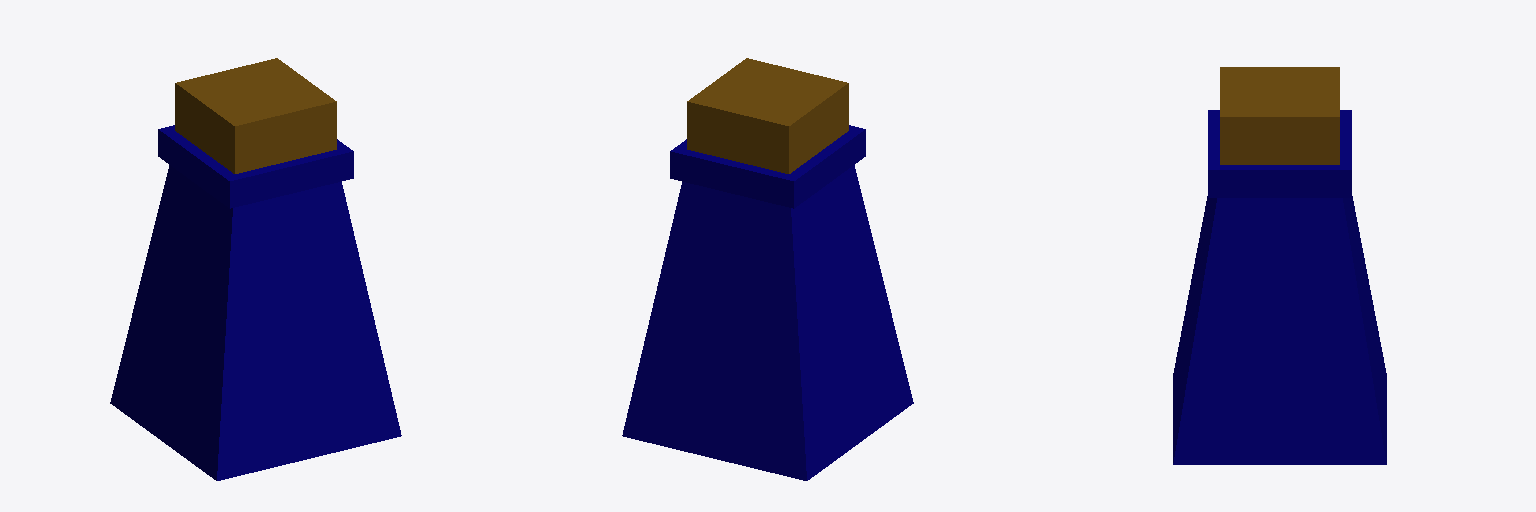
Rendered from MinorPotion_Mana.obj.
3 renders of one model, left to right at view 1: azimuth 30°, elevation 25°; view 2: azimuth 150°, elevation 25°; view 3: azimuth 270°, elevation 25°, orthographic.
Visible parts, largest first — view 1: MinorPotion_Mana_Cube.015; view 2: MinorPotion_Mana_Cube.015; view 3: MinorPotion_Mana_Cube.015.
Part boxes in pixels (bbox=[...]): MinorPotion_Mana_Cube.015: bbox=[110, 58, 401, 480]; MinorPotion_Mana_Cube.015: bbox=[622, 58, 913, 480]; MinorPotion_Mana_Cube.015: bbox=[1173, 67, 1386, 464].
Size of the model in its own units: 2.41 by 4.08 by 2.41.